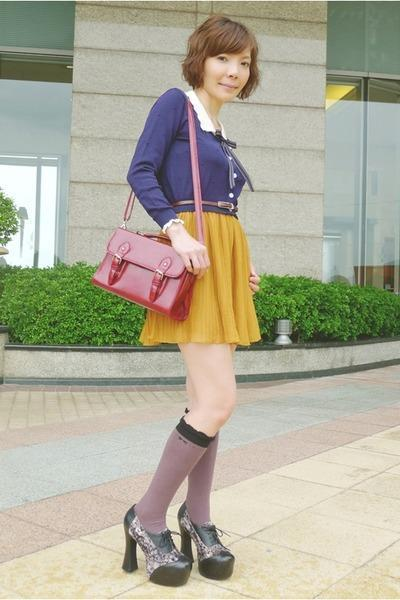bag: (88, 156, 207, 323)
shirt: (127, 84, 251, 227)
shoe: (122, 503, 234, 586)
skirt: (139, 204, 262, 347)
